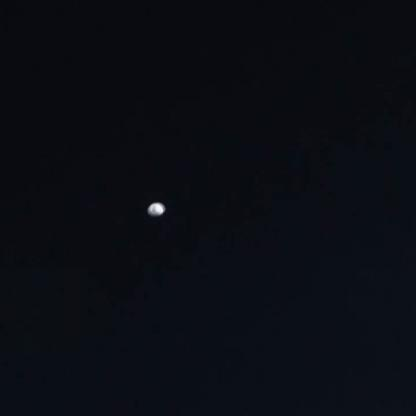ball: (144, 195, 168, 219)
